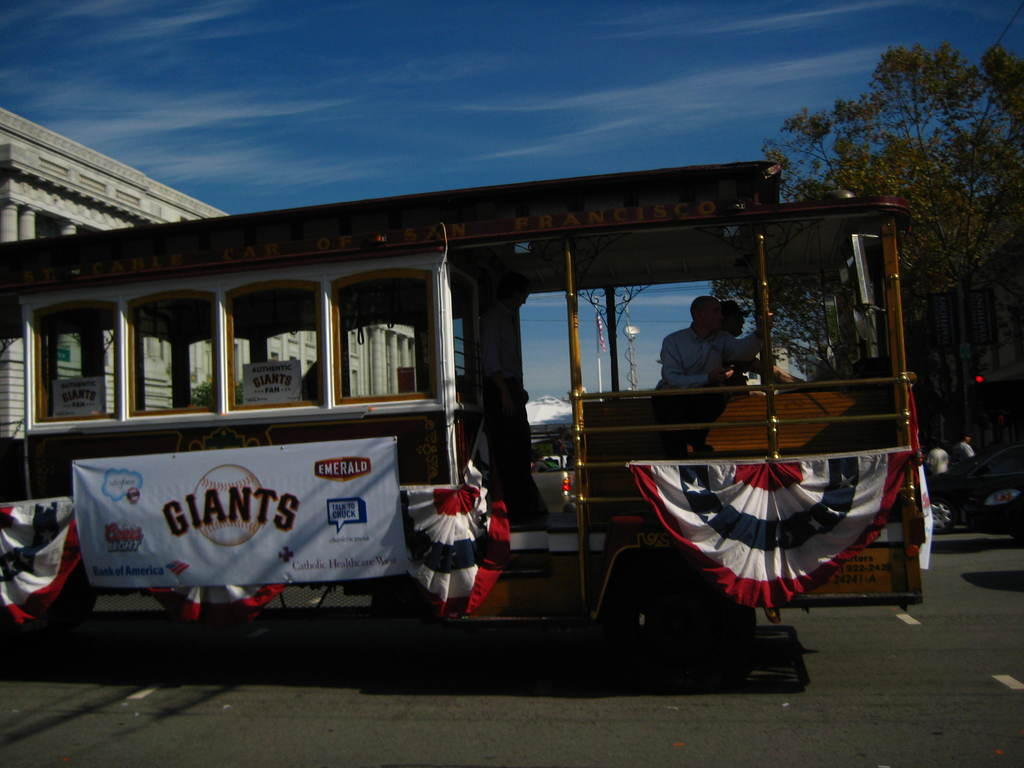Bus: (0, 153, 951, 635)
